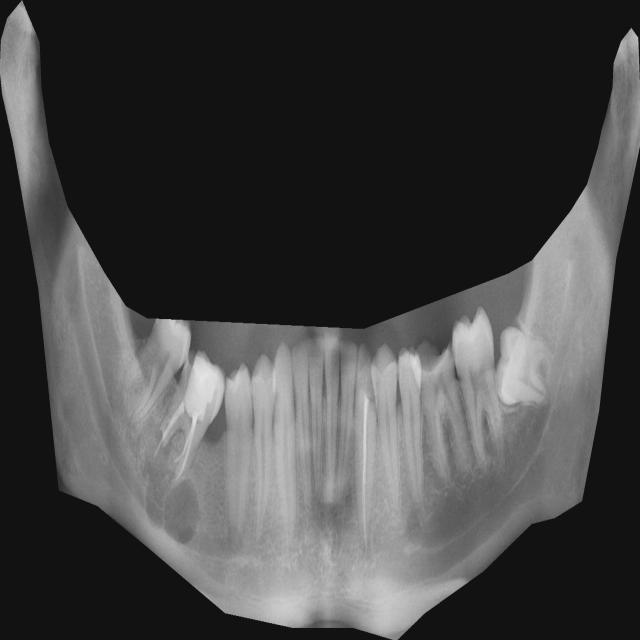mandibula: (0, 0, 640, 640)
